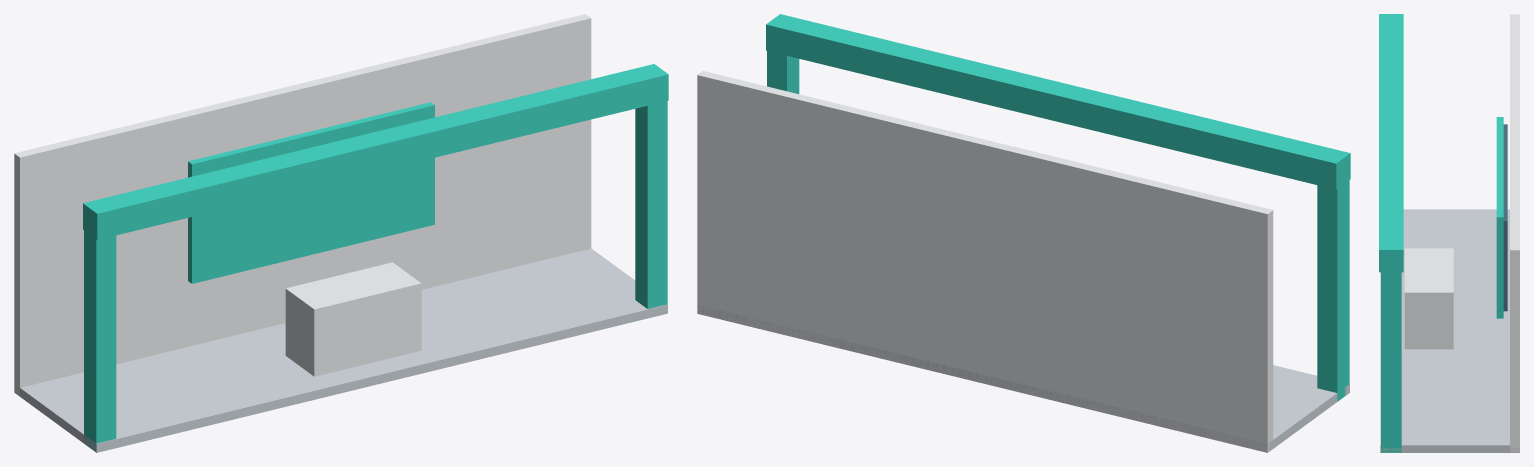
3 views of the same model, side by side, from view 1: azimuth 30°, elevation 25°; view 2: azimuth 150°, elevation 25°; view 3: azimuth 270°, elevation 25° (orthographic). The views are drawn at different scales.
Visible parts, largest first — view 1: Exhibition Booth Concept; view 2: Exhibition Booth Concept; view 3: Exhibition Booth Concept.
Part boxes in pixels (x1=…): Exhibition Booth Concept: x1=14, y1=14, x2=668, y2=452; Exhibition Booth Concept: x1=697, y1=14, x2=1350, y2=452; Exhibition Booth Concept: x1=1379, y1=14, x2=1519, y2=452.
Size of the model in its own units: 8 by 3.2 by 2.01.
